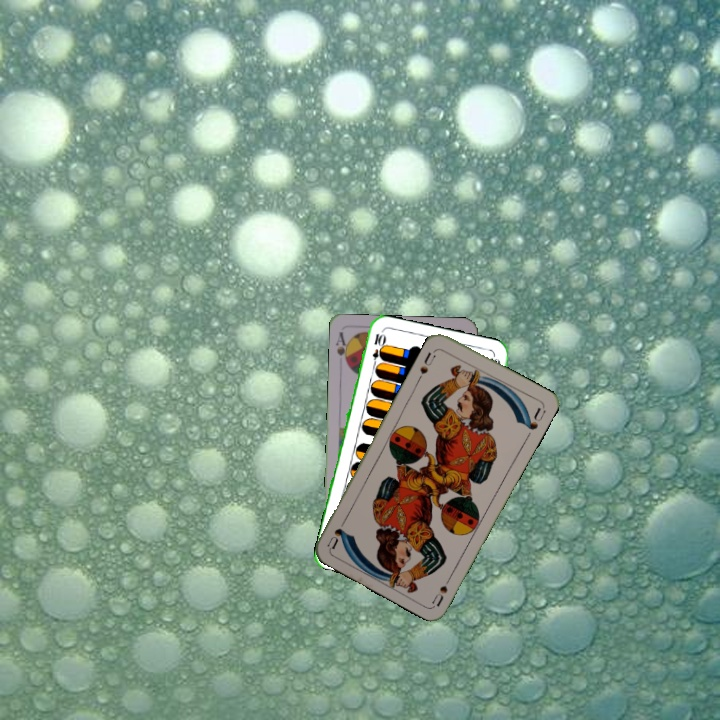E10: (368, 329, 386, 370)
SA: (332, 329, 352, 369)
SU: (428, 569, 455, 608), (416, 348, 438, 377)
